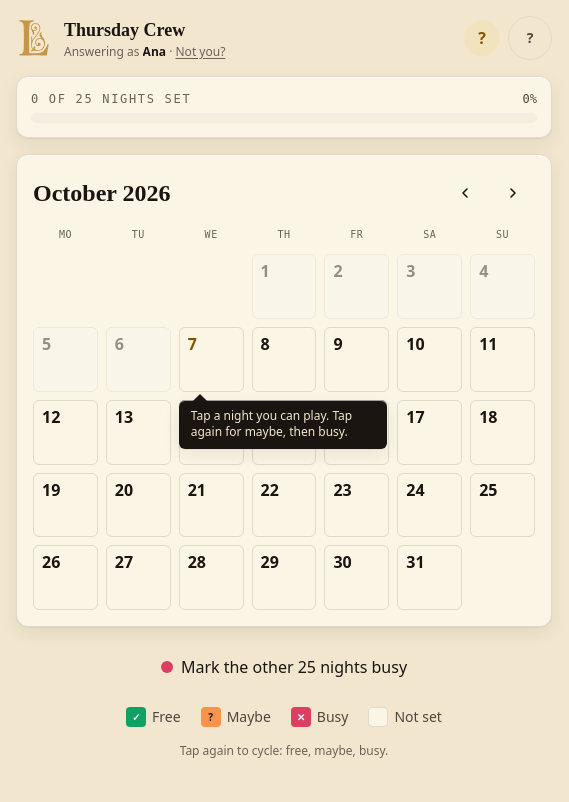
Test: PlayerScreen › keeps the newly picked name when the rejected Player's claim arrives late
The width and height of the screenshot is (569, 802).
Click the button named "Wednesday, October 7:" at (211, 359), box [179,327,244,392]
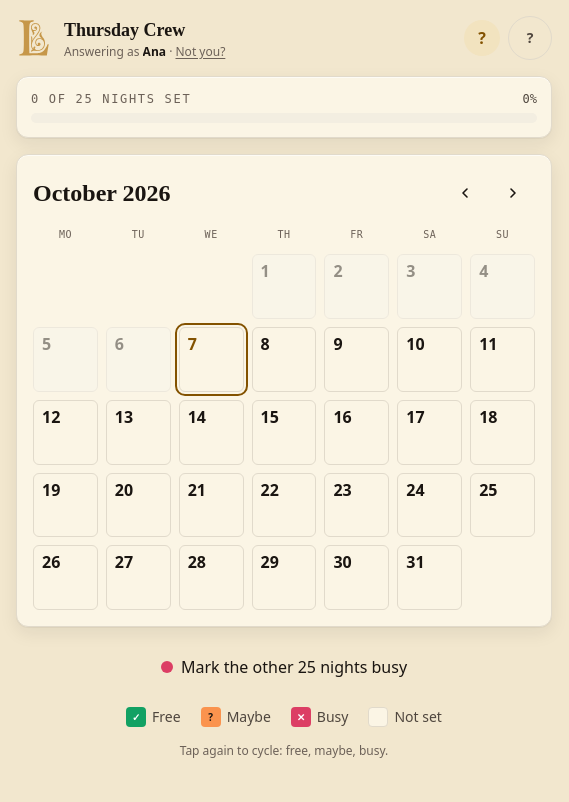
Click the button "Not you?" at (200, 52), box [172,30,229,74]
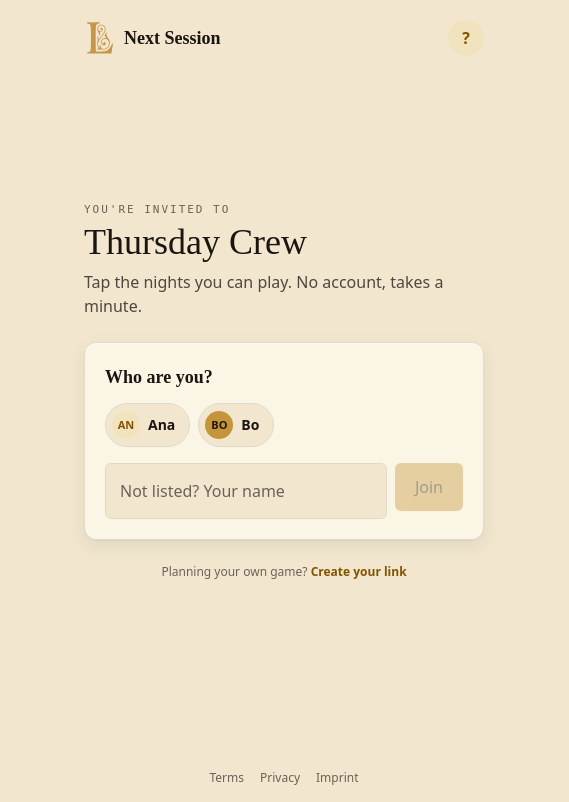
Click the button "BO Bo" at (236, 425), box [198,403,274,447]
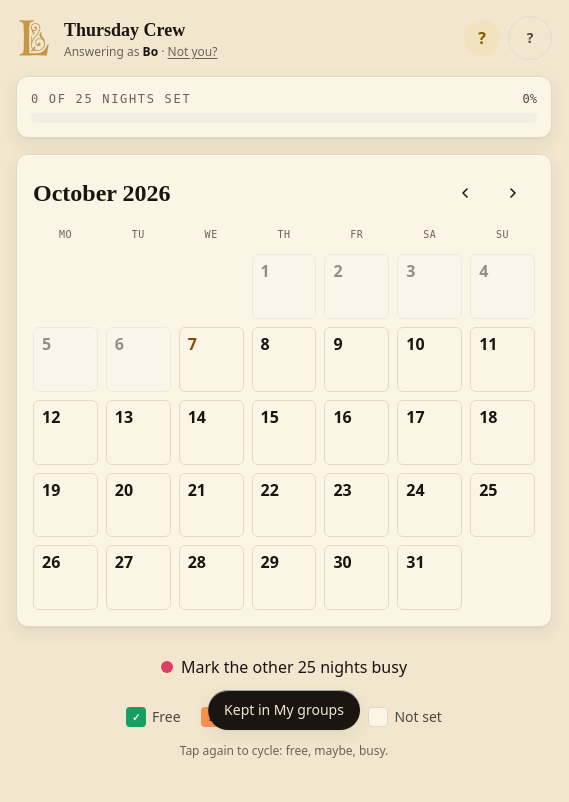
Check: the text "Answering as Bo · Not you?" is shown, box [64,44,217,60]
